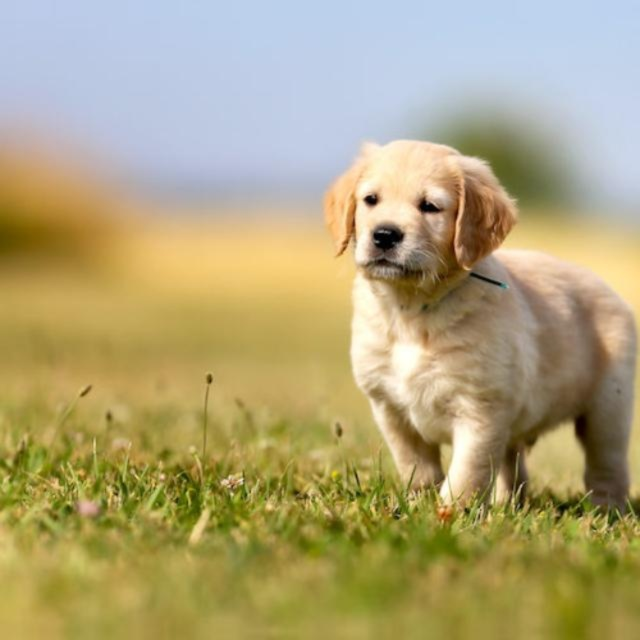dog: (301, 128, 635, 528)
